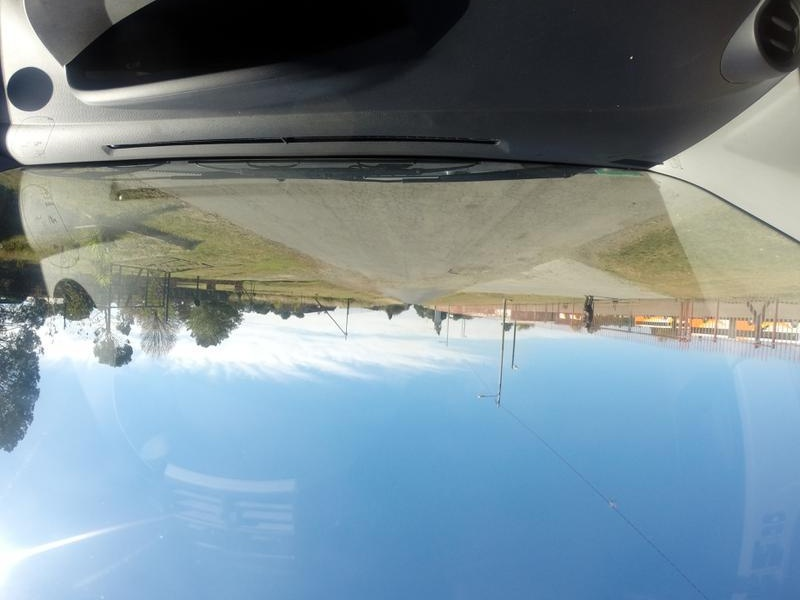pothole: (442, 258, 502, 289)
